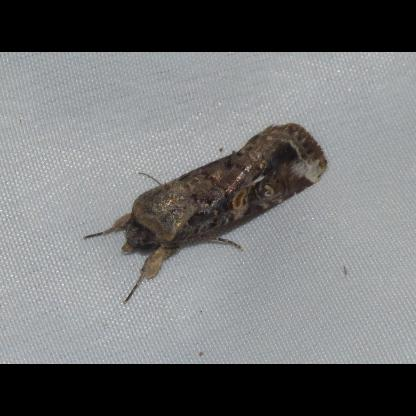Fall Armyworm Moth: (82, 120, 330, 308)
